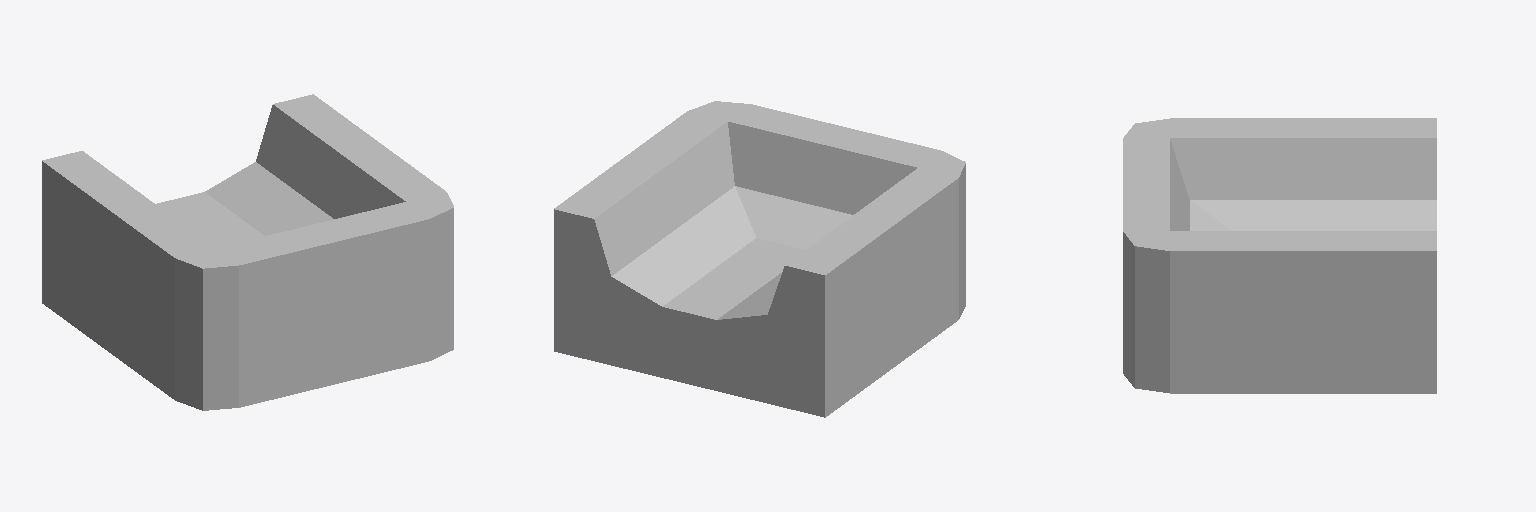
File: end-rounded.obj
The picture shows the model from 3 angles: view 1: azimuth 30°, elevation 25°; view 2: azimuth 150°, elevation 25°; view 3: azimuth 270°, elevation 25°; orthographic projection.
Visible parts, largest first — view 1: end-rounded; view 2: end-rounded; view 3: end-rounded.
Boxes of the visible parts, <box> form: end-rounded: <box>42,94,453,410</box>; end-rounded: <box>554,101,965,417</box>; end-rounded: <box>1123,118,1436,393</box>.
Bounding box in the file's own units: 1 × 0.5 × 1.